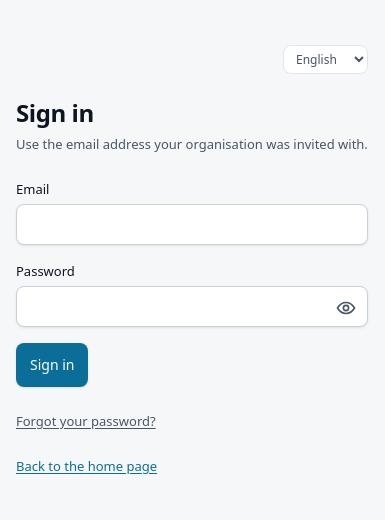
Test: signing in › says plainly when the deployment cannot issue sessions at all
The image size is (385, 520).
Type "ada@acme.test" into the field labelled "Email" at (192, 224), box top-left (16, 204), bottom-right (368, 245)
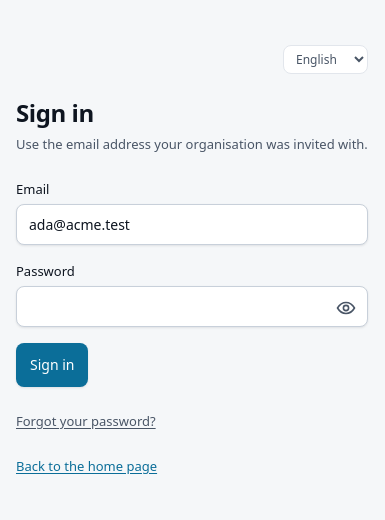
Type "correct horse battery" into the password field labelled "Password" at (192, 306), box top-left (16, 286), bottom-right (368, 327)
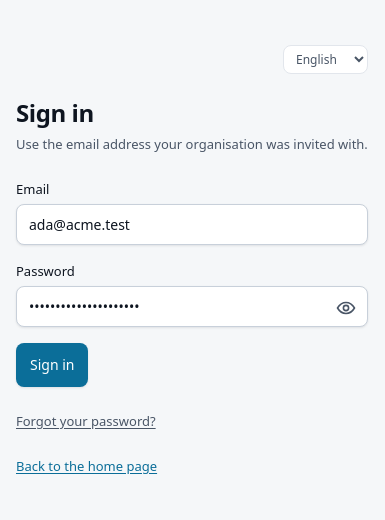
Click the button "Sign in" at (52, 365), box top-left (16, 343), bottom-right (88, 387)
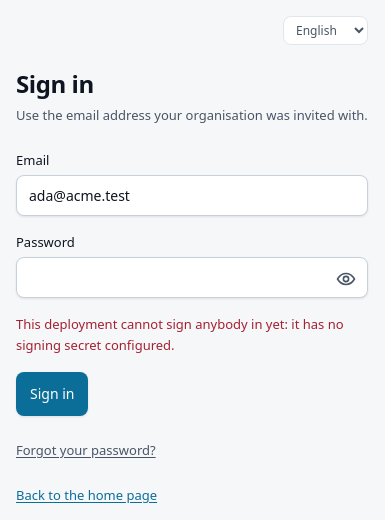
Check: the message shows "no signing secret", box top-left (16, 315), bottom-right (344, 354)
